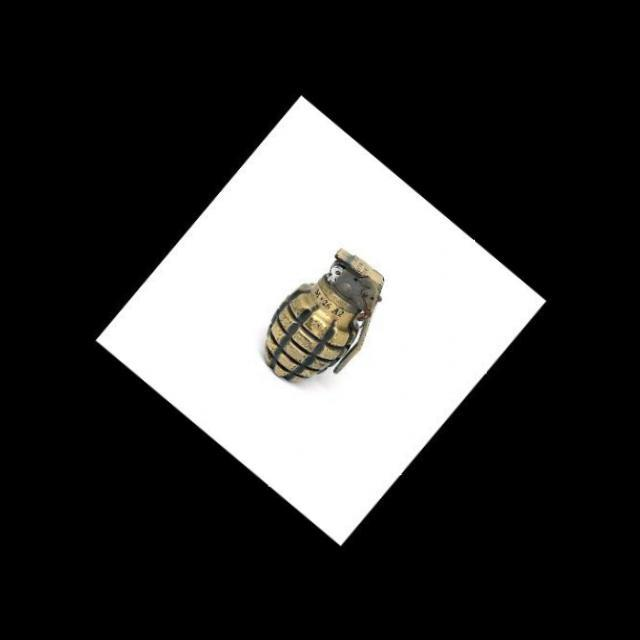grenade: (244, 236, 399, 386)
